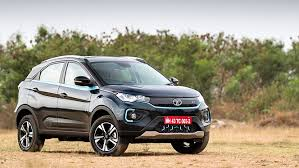Tata Nexon: (13, 53, 212, 154)
